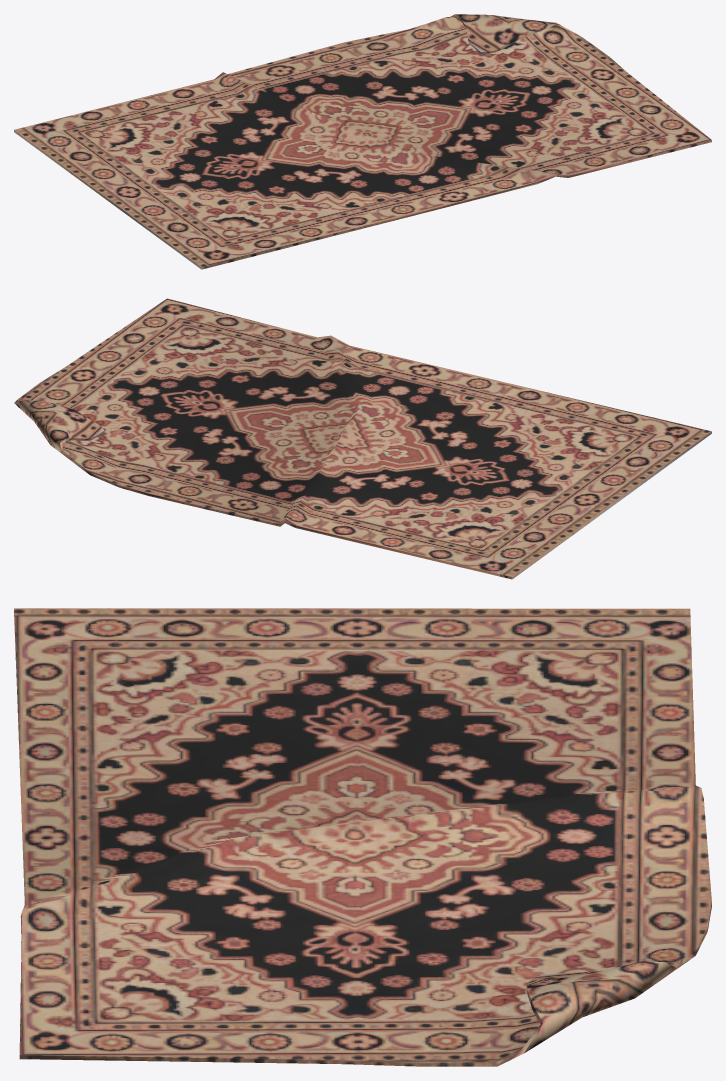
Rendered from carpet_1.fbx.
3 views of the same model, one above another, from view 1: azimuth 30°, elevation 25°; view 2: azimuth 150°, elevation 25°; view 3: azimuth 270°, elevation 25° (orthographic). The views are drawn at different scales.
Parts seen in each view (by area): view 1: carpet_1; view 2: carpet_1; view 3: carpet_1.
Boxes of the visible parts, bbox=[...] form: carpet_1: bbox=[14, 14, 711, 269]; carpet_1: bbox=[14, 298, 711, 579]; carpet_1: bbox=[14, 608, 711, 1066].
Size of the model in its own units: 256 by 10.36 by 165.
